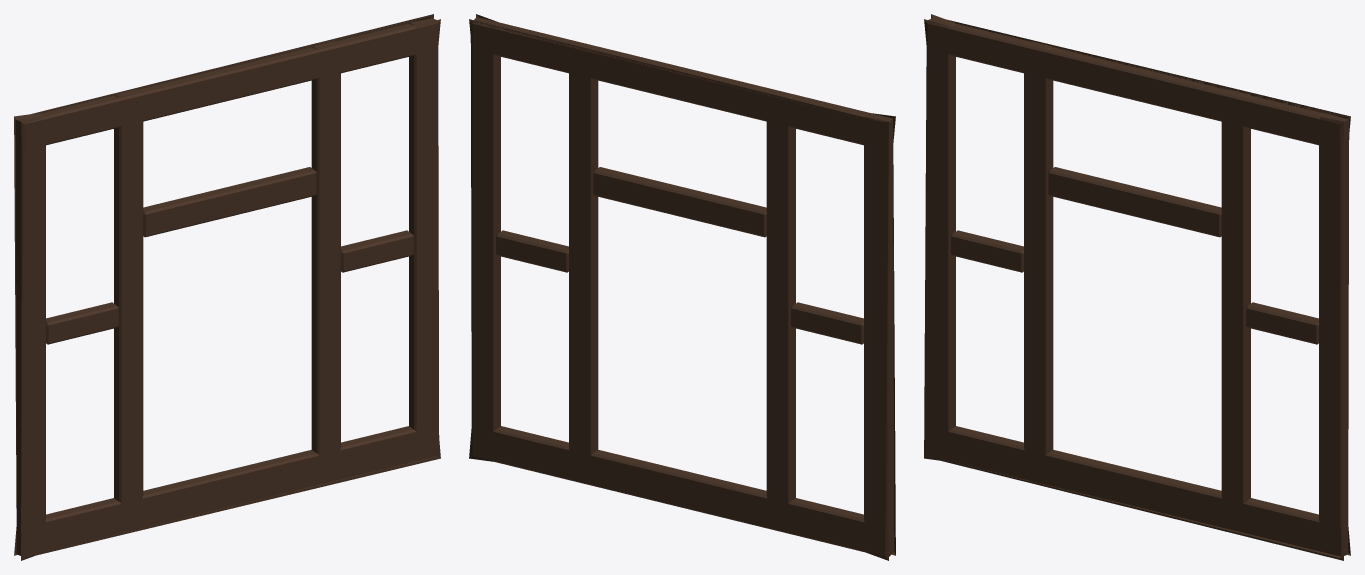
File: timber_door_w12.fbx
3 views of the same model, side by side, from view 1: azimuth 30°, elevation 25°; view 2: azimuth 150°, elevation 25°; view 3: azimuth 330°, elevation 25° (orthographic).
Parts seen in each view (by area): view 1: timber_door_w12; view 2: timber_door_w12; view 3: timber_door_w12.
Boxes of the visible parts, <box> form: timber_door_w12: <box>14,14,440,560</box>; timber_door_w12: <box>469,14,895,560</box>; timber_door_w12: <box>924,14,1350,560</box>.
Bounding box in the file's own units: 1210 × 1210 × 35.
